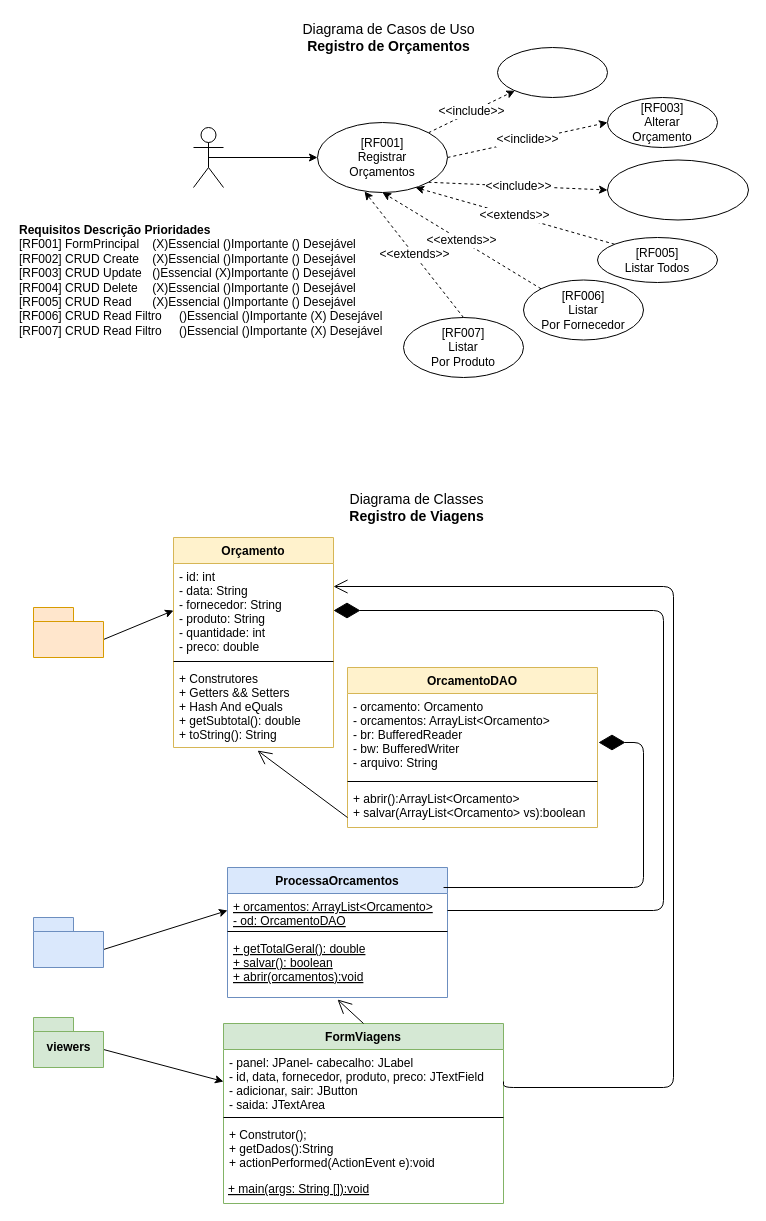
Some shapes in this 766 by 1221 pixel diagram are drawn without their labels. Each missing label, with the centre of its shape:
"[RF002] Adicionar Orçamento" goes at (552,72).
"[RF004] Excluir Orçamento" goes at (677,189).
"controllers" goes at (68,942).
"models" goes at (68,632).
"Usuário" goes at (208,157).
